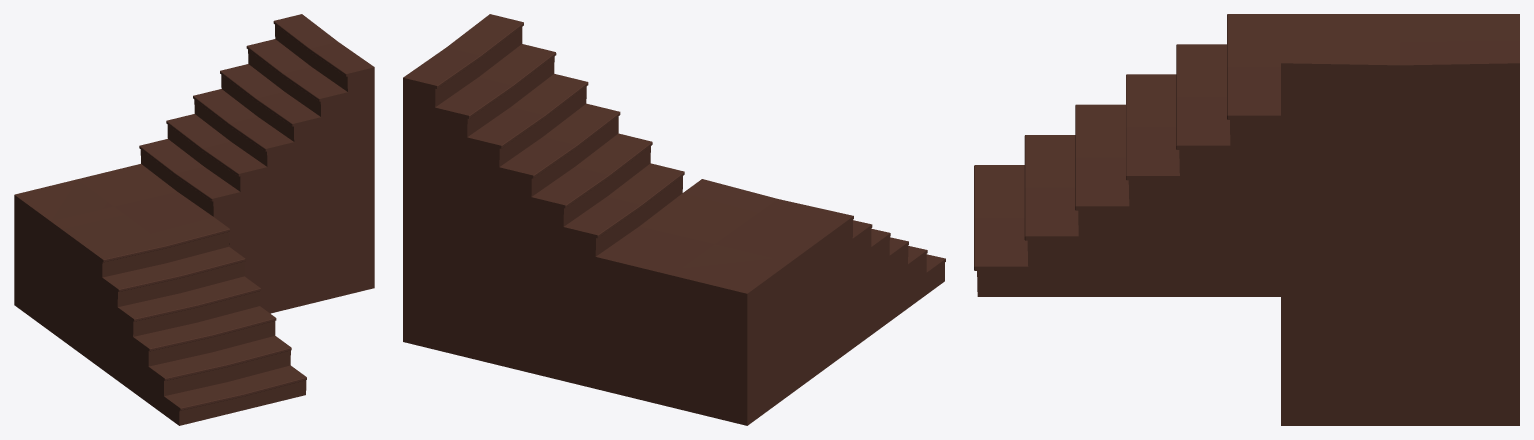
The model's file is corner-staircase-a.glb.
3 renders of one model, left to right at view 1: azimuth 30°, elevation 25°; view 2: azimuth 150°, elevation 25°; view 3: azimuth 270°, elevation 25°, orthographic. The views are drawn at different scales.
Parts seen in each view (by area): view 1: Corner Staircase A; view 2: Corner Staircase A; view 3: Corner Staircase A.
Part boxes in pixels (<box>): Corner Staircase A: <box>14,14,374,425</box>; Corner Staircase A: <box>403,14,945,425</box>; Corner Staircase A: <box>974,14,1519,425</box>.
Bounding box in the file's own units: 3 × 2.2 × 3.
